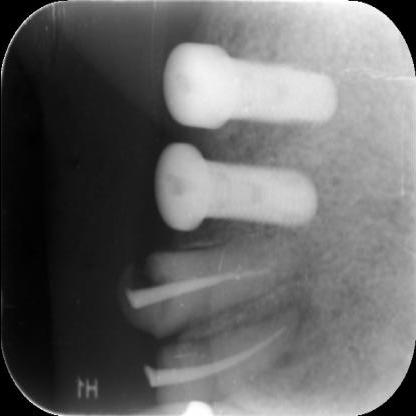Bego: (198, 150, 324, 233), (227, 53, 353, 131)
